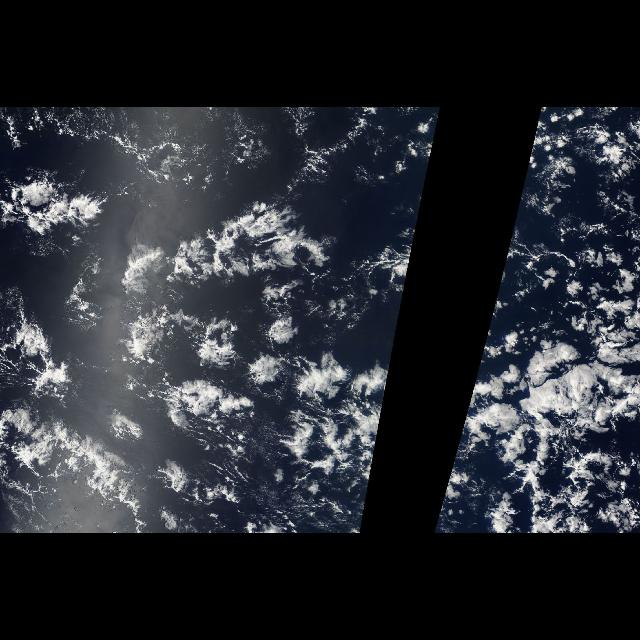Flower: (1, 162, 411, 510), (452, 326, 630, 522)
